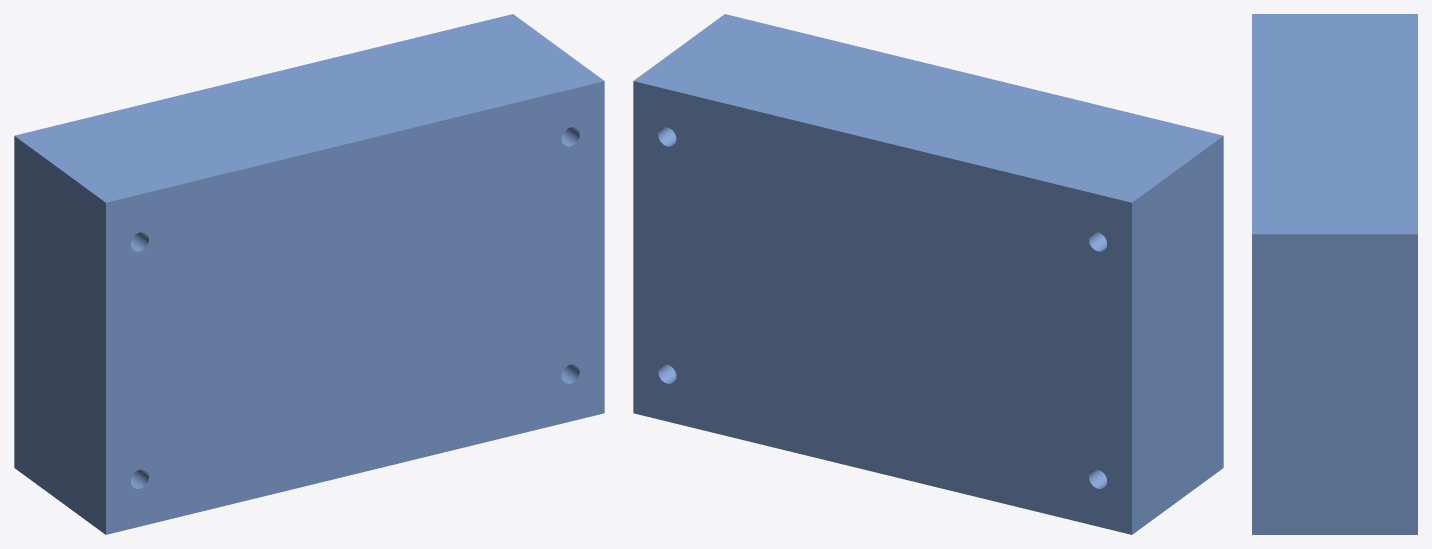
The picture shows the model from 3 angles, left to right: view 1: azimuth 30°, elevation 25°; view 2: azimuth 150°, elevation 25°; view 3: azimuth 270°, elevation 25°; orthographic projection. The views are drawn at different scales.
Visible parts, largest first — view 1: mesh7456, mesh7458, mesh7459; view 2: mesh7457, mesh7458, mesh7459; view 3: mesh7461, mesh7458.
Boxes of the visible parts, <box> form: mesh7456: <box>106,81,604,534</box>; mesh7458: <box>14,14,603,202</box>; mesh7459: <box>14,136,105,534</box>; mesh7457: <box>633,81,1131,534</box>; mesh7458: <box>634,14,1223,202</box>; mesh7459: <box>1132,136,1223,534</box>; mesh7461: <box>1252,234,1417,534</box>; mesh7458: <box>1252,14,1417,234</box>.
Size of the model in its own units: 0.11 by 0.07 by 0.035.
